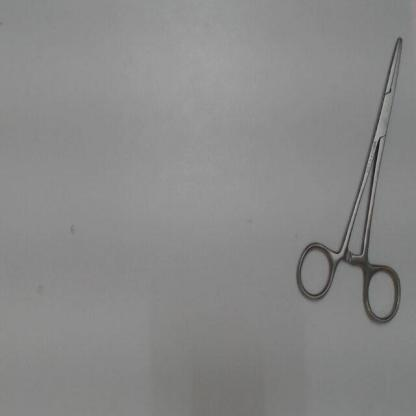Mayo Needle Holder: (289, 19, 410, 331)
